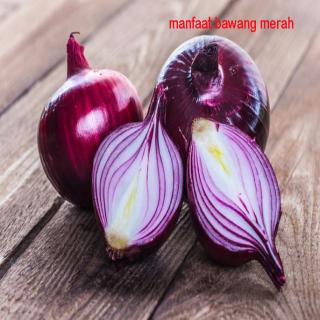Bawang Merah: (37, 31, 145, 209), (186, 117, 287, 293), (91, 83, 186, 263)
